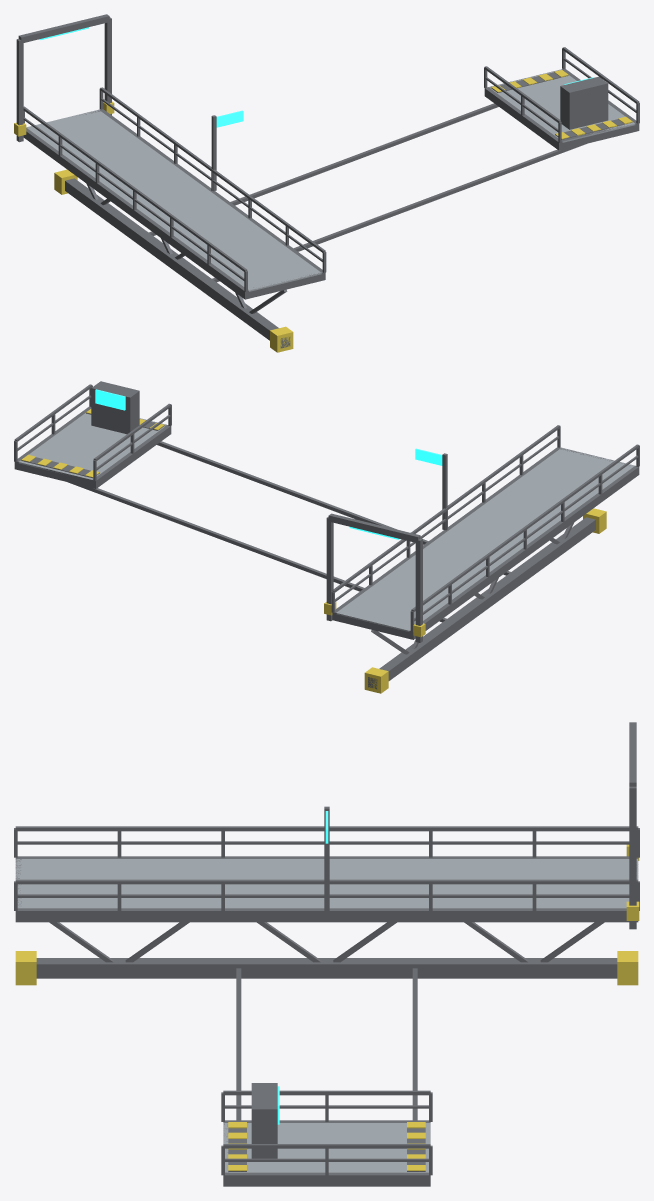
The model's file is scaffold_splitter_hub.glb.
The picture shows the model from 3 angles, top to bottom: view 1: azimuth 30°, elevation 25°; view 2: azimuth 150°, elevation 25°; view 3: azimuth 270°, elevation 25°; orthographic projection. The views are drawn at different scales.
Parts seen in each view (by area): view 1: Deck_a, Spine, Frame_a_-1, Deck_station, Console, Hanger_station_1, Hanger_station_0, Rail_a_1, Rail_a_-1, Frame_a_1, Frame_station_-1, MidRail_a_1 (+7 smaller); view 2: Deck_a, Spine, Deck_station, Frame_a_-1, Console, Hanger_station_0, Hanger_station_1, Rail_a_-1, Rail_a_1, Frame_a_1, Frame_station_-1, PortalLintel (+8 smaller); view 3: Deck_a, Spine, Frame_a_1, Deck_station, Rail_a_-1, Rail_a_1, Frame_station_1, MidRail_a_-1, MidRail_a_1, Console, Frame_a_-1, Rail_station_-1 (+8 smaller).
Part boxes in pixels (x1=…): Deck_a: x1=26, y1=109, x2=321, y2=291; Spine: x1=65, y1=178, x2=290, y2=348; Frame_a_-1: x1=23, y1=128, x2=248, y2=299; Deck_station: x1=489, y1=69, x2=635, y2=142; Console: x1=560, y1=76, x2=608, y2=129; Hanger_station_1: x1=212, y1=144, x2=585, y2=282; Hanger_station_0: x1=149, y1=103, x2=498, y2=235; Rail_a_1: x1=100, y1=87, x2=325, y2=252; Rail_a_-1: x1=23, y1=106, x2=247, y2=271; Frame_a_1: x1=99, y1=109, x2=325, y2=280; Frame_station_-1: x1=484, y1=87, x2=560, y2=150; MidRail_a_1: x1=101, y1=98, x2=322, y2=261; Deck_a: x1=336, y1=448, x2=634, y2=631; Spine: x1=368, y1=517, x2=595, y2=689; Deck_station: x1=18, y1=413, x2=166, y2=479; Frame_a_-1: x1=409, y1=465, x2=638, y2=639; Console: x1=91, y1=381, x2=139, y2=434; Hanger_station_0: x1=68, y1=482, x2=446, y2=622; Hanger_station_1: x1=157, y1=441, x2=510, y2=575; Rail_a_-1: x1=411, y1=444, x2=639, y2=611; Rail_a_1: x1=332, y1=425, x2=560, y2=592; Frame_a_1: x1=332, y1=447, x2=559, y2=620; Frame_station_-1: x1=92, y1=425, x2=171, y2=488; PortalLintel: x1=328, y1=513, x2=420, y2=543; Deck_a: x1=15, y1=859, x2=638, y2=908; Spine: x1=36, y1=958, x2=617, y2=978; Frame_a_1: x1=15, y1=908, x2=629, y2=922; Deck_station: x1=223, y1=1123, x2=430, y2=1172; Rail_a_-1: x1=15, y1=826, x2=638, y2=831; Rail_a_1: x1=15, y1=879, x2=638, y2=884; Frame_station_1: x1=223, y1=1172, x2=430, y2=1186; MidRail_a_-1: x1=17, y1=841, x2=629, y2=844; MidRail_a_1: x1=17, y1=894, x2=629, y2=897; Console: x1=251, y1=1083, x2=277, y2=1158; Frame_a_-1: x1=15, y1=856, x2=638, y2=858; Rail_station_-1: x1=223, y1=1090, x2=430, y2=1095.
Size of the model in its own units: 14.8 by 4.84 by 12.07.
